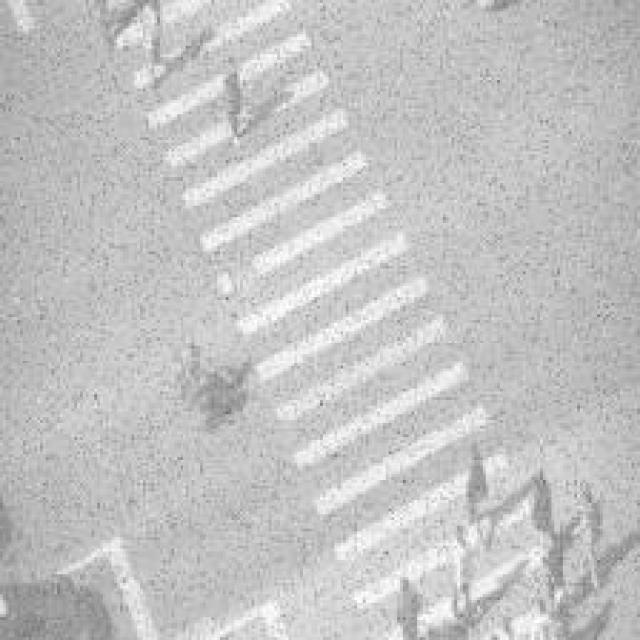crosswalk: (96, 8, 556, 640)
